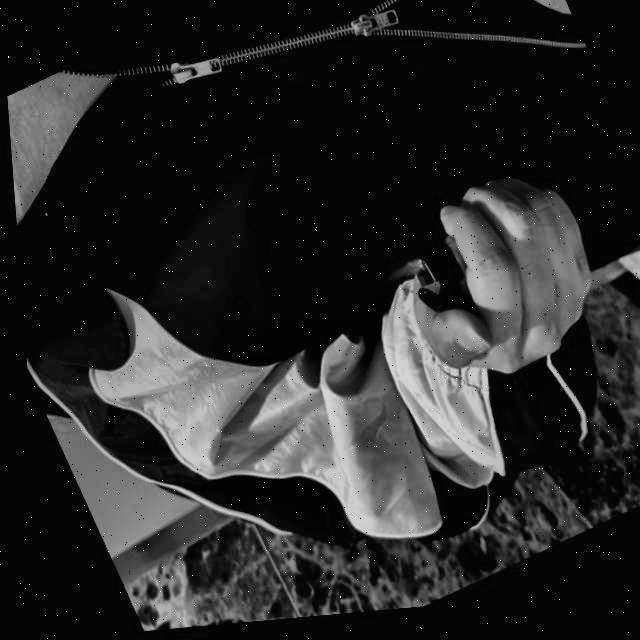Fire: (359, 262, 420, 304)
